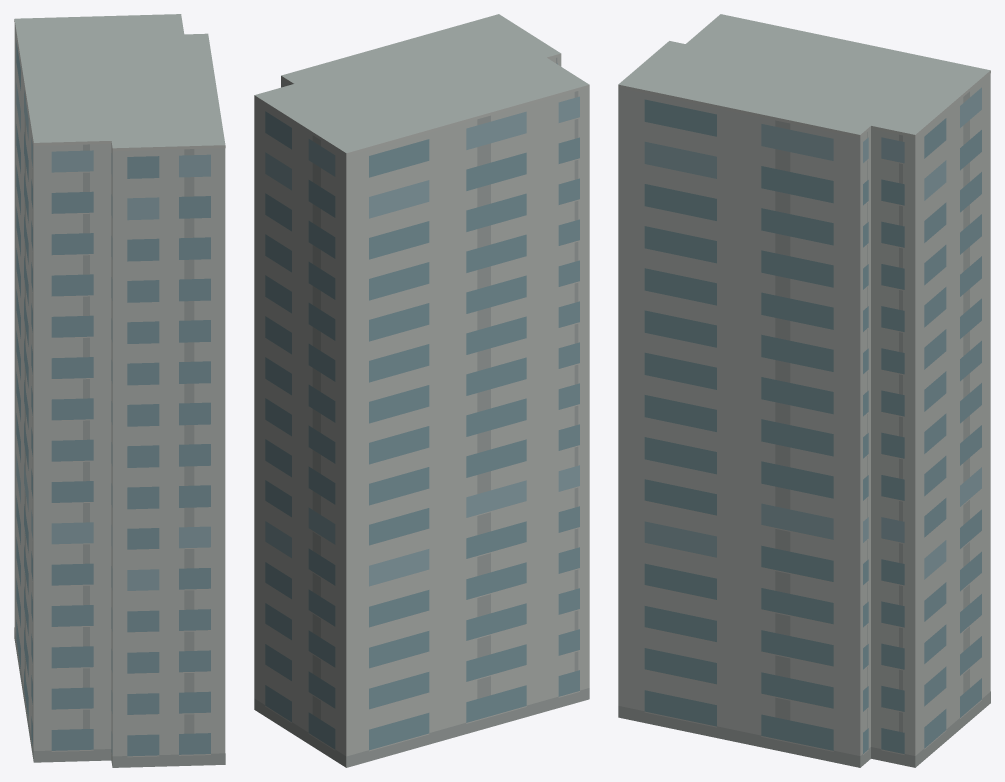
Rendered from residential-85348c63-256f-4e72-b9f5-864402487f63.glb.
3 views of the same model, side by side, from view 1: azimuth 30°, elevation 25°; view 2: azimuth 150°, elevation 25°; view 3: azimuth 270°, elevation 25° (orthographic). The views are drawn at different scales.
Parts seen in each view (by area): view 1: residential-85348c63-256f-4e72-b9f5-864402487f63.tmp; view 2: residential-85348c63-256f-4e72-b9f5-864402487f63.tmp; view 3: residential-85348c63-256f-4e72-b9f5-864402487f63.tmp.
Boxes of the visible parts, x1,y1,x2,y2 form: residential-85348c63-256f-4e72-b9f5-864402487f63.tmp: (14,14,225,767); residential-85348c63-256f-4e72-b9f5-864402487f63.tmp: (254,14,589,767); residential-85348c63-256f-4e72-b9f5-864402487f63.tmp: (618,14,990,767).
Bounding box in the file's own units: 20.51 × 50 × 26.68.
